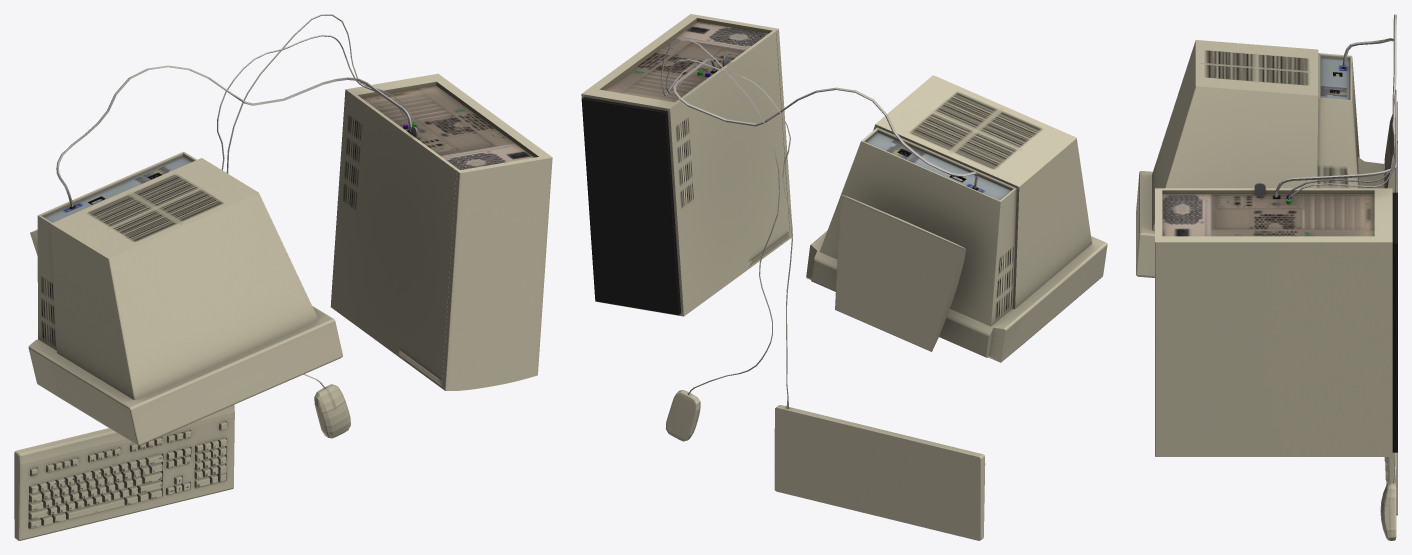
3 renders of one model, left to right at view 1: azimuth 30°, elevation 25°; view 2: azimuth 150°, elevation 25°; view 3: azimuth 270°, elevation 25°, orthographic. The views are drawn at different scales.
Parts seen in each view (by area): view 1: retro_computer_setup_retro_computer_setup_Mat_0; view 2: retro_computer_setup_retro_computer_setup_Mat_0; view 3: retro_computer_setup_retro_computer_setup_Mat_0.
Part boxes in pixels (box(x1,y1,x2,y2)): retro_computer_setup_retro_computer_setup_Mat_0: box(14, 14, 552, 540); retro_computer_setup_retro_computer_setup_Mat_0: box(581, 14, 1107, 540); retro_computer_setup_retro_computer_setup_Mat_0: box(1136, 14, 1397, 540).
Size of the model in its own units: 96.81 by 96.94 by 49.28.
1 material, 1 textured.
